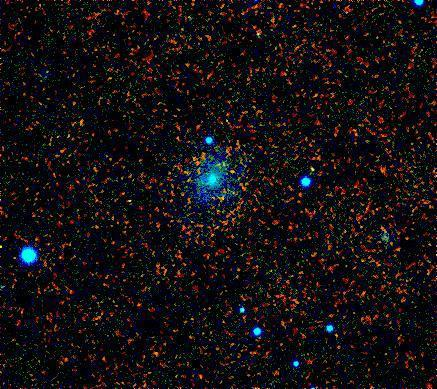star: (213, 152, 243, 182)
